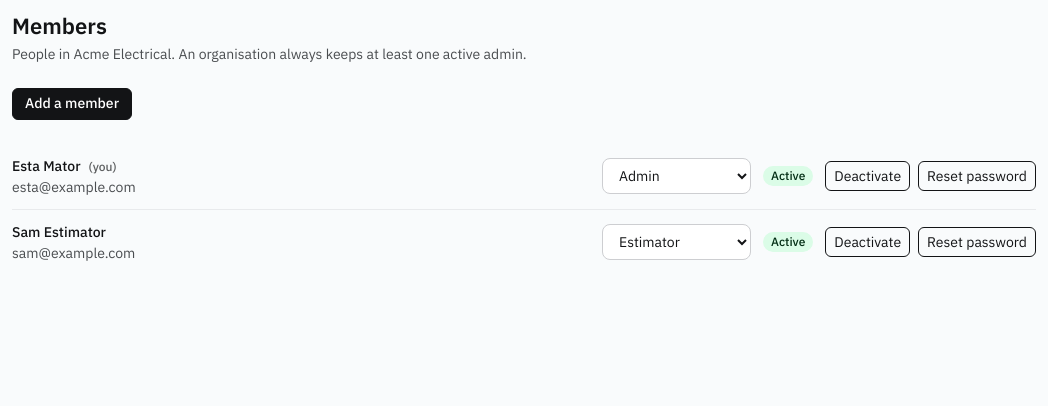
Test case: MembersView › shows a password-policy message from a 422 detail
Step 1. Click the button with aria-label "Reset password for Sam Estimator" → point(977, 242), box top-left (918, 227), bottom-right (1036, 257)
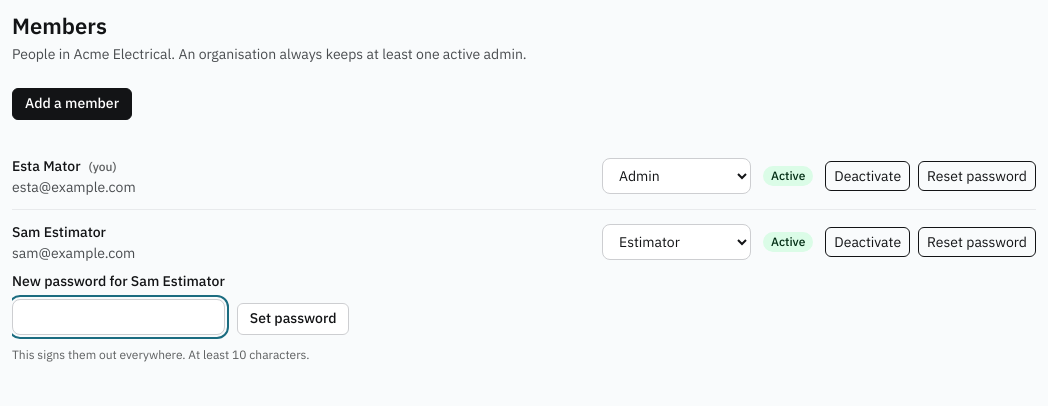
Step 2. Type "short" into the password field labelled "New password for Sam Estimator" → point(118, 316), box top-left (12, 298), bottom-right (225, 334)
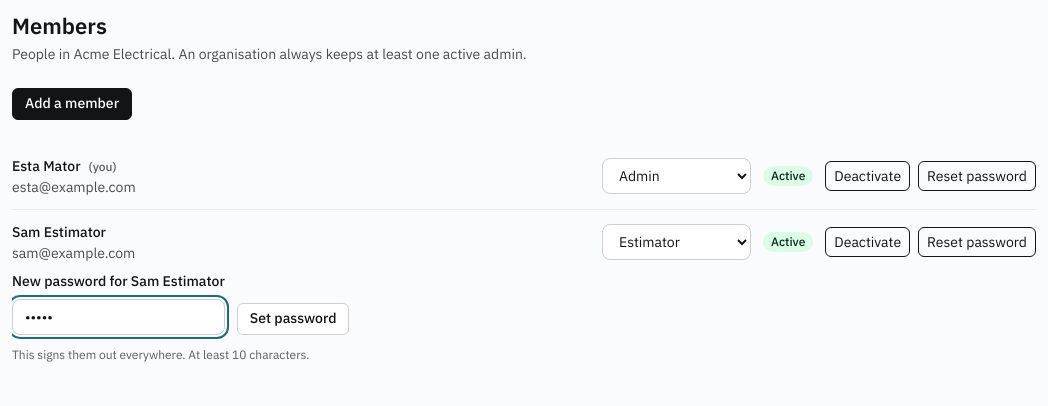
Step 3. Click the button "Set password" → point(293, 318), box top-left (237, 302), bottom-right (350, 334)
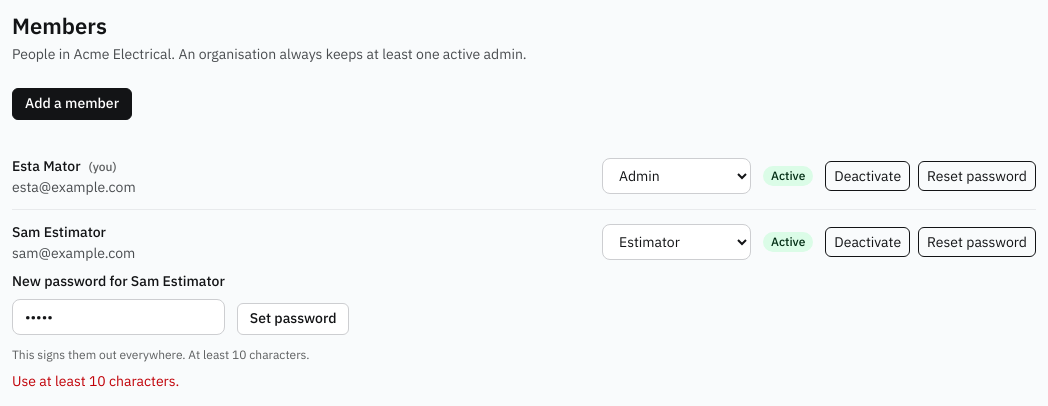
Now the text "Use at least 10 characters." is shown, box top-left (12, 372), bottom-right (179, 390)
